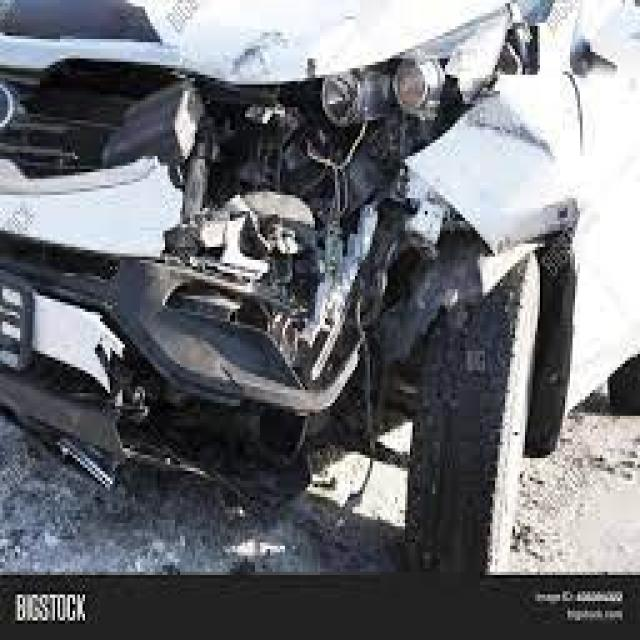severe: (0, 10, 616, 469)
